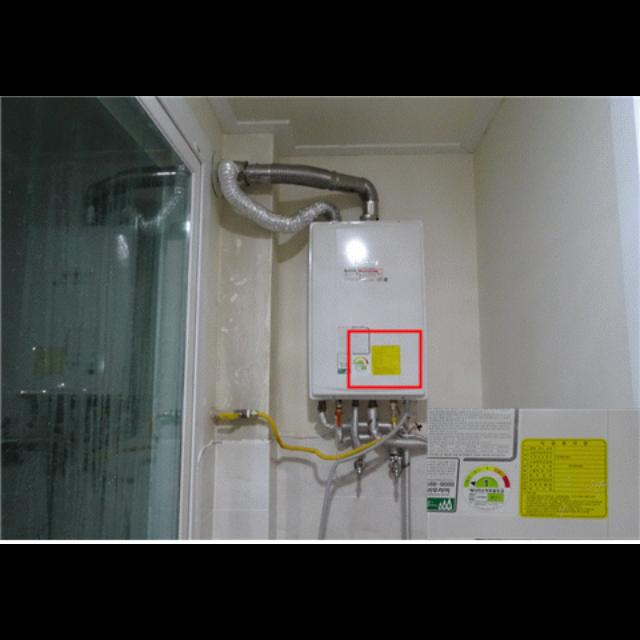Boiler: (294, 195, 431, 432)
